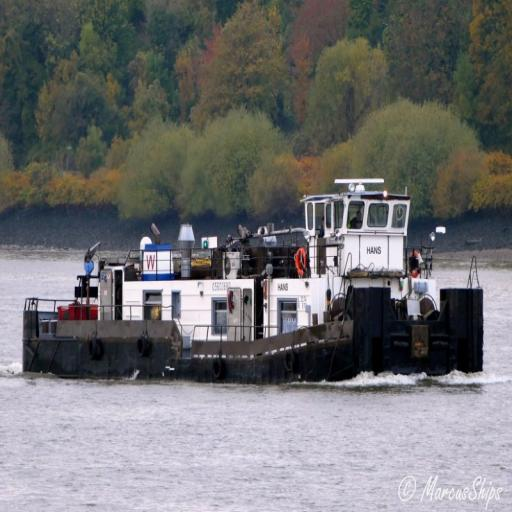tugboat: (20, 173, 490, 396)
